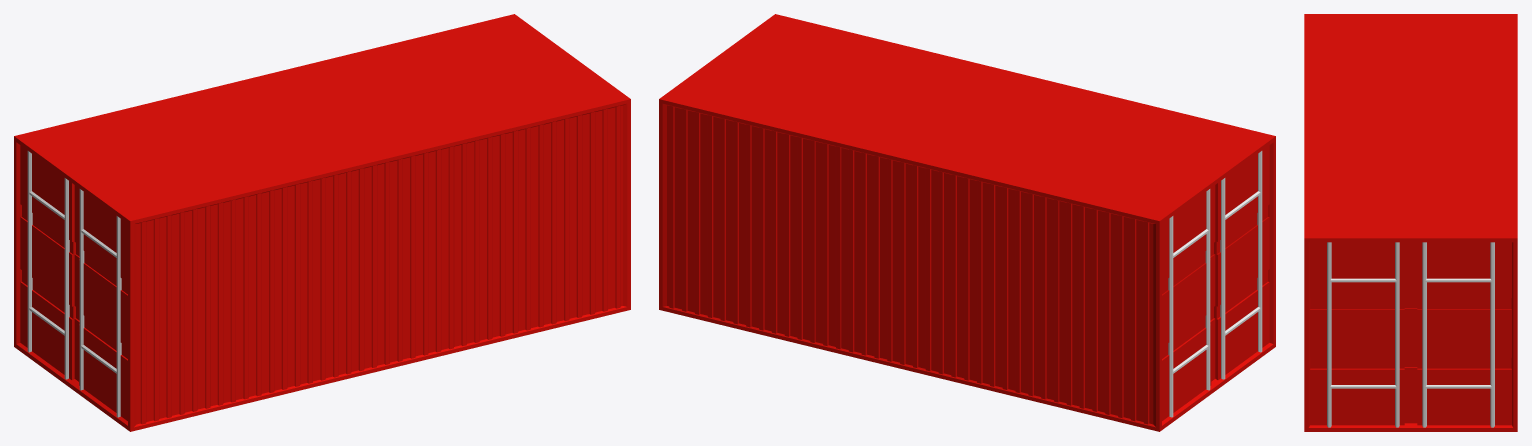
The model's file is carbage_big.fbx.
3 views of the same model, side by side, from view 1: azimuth 30°, elevation 25°; view 2: azimuth 150°, elevation 25°; view 3: azimuth 270°, elevation 25° (orthographic). The views are drawn at different scales.
Visible parts, largest first — view 1: Cube.027, Cube.005, Cube.024, Cube.034, Cube.039, Cube.001, Cube.010, Cube.011, Cube.014, Cube.028, Cube.029, Cube.033 (+31 smaller); view 2: Cube.027, Cube.005, Cube.024, Cube.034, Cube.039, Cube.001, Cube.010, Cube.011, Cube.014, Cube.028, Cube.029, Cube.033 (+31 smaller); view 3: Cube.027, Cylinder.014, Cylinder.015, Cylinder.012, Cylinder.013, Cylinder.011, Cylinder.010, Cylinder.008, Cylinder.009.
Part boxes in pixels (x1=…): Cube.027: x1=14, y1=14, x2=630, y2=431; Cube.005: x1=499, y1=134, x2=505, y2=336; Cube.024: x1=358, y1=168, x2=364, y2=371; Cube.034: x1=153, y1=218, x2=159, y2=421; Cube.039: x1=140, y1=221, x2=146, y2=424; Cube.001: x1=435, y1=149, x2=441, y2=352; Cube.010: x1=589, y1=112, x2=595, y2=314; Cube.011: x1=576, y1=115, x2=582, y2=317; Cube.014: x1=512, y1=130, x2=518, y2=333; Cube.028: x1=294, y1=184, x2=300, y2=386; Cube.029: x1=281, y1=187, x2=287, y2=389; Cube.033: x1=217, y1=202, x2=223, y2=405; Cube.027: x1=659, y1=14, x2=1275, y2=431; Cube.005: x1=784, y1=134, x2=790, y2=336; Cube.024: x1=925, y1=168, x2=931, y2=371; Cube.034: x1=1130, y1=218, x2=1136, y2=421; Cube.039: x1=1143, y1=221, x2=1149, y2=424; Cube.001: x1=848, y1=149, x2=854, y2=352; Cube.010: x1=694, y1=112, x2=700, y2=314; Cube.011: x1=707, y1=115, x2=713, y2=317; Cube.014: x1=771, y1=130, x2=777, y2=333; Cube.028: x1=989, y1=184, x2=995, y2=386; Cube.029: x1=1002, y1=187, x2=1008, y2=389; Cube.033: x1=1066, y1=202, x2=1072, y2=405; Cube.027: x1=1304, y1=14, x2=1517, y2=431; Cylinder.014: x1=1422, y1=242, x2=1426, y2=427; Cylinder.015: x1=1395, y1=242, x2=1399, y2=427; Cylinder.012: x1=1327, y1=242, x2=1331, y2=427; Cylinder.013: x1=1490, y1=242, x2=1494, y2=427; Cylinder.011: x1=1329, y1=278, x2=1398, y2=282; Cylinder.010: x1=1424, y1=278, x2=1493, y2=282; Cylinder.008: x1=1329, y1=385, x2=1398, y2=388; Cylinder.009: x1=1424, y1=385, x2=1493, y2=388.
Size of the model in its own units: 781 by 314 by 314.
